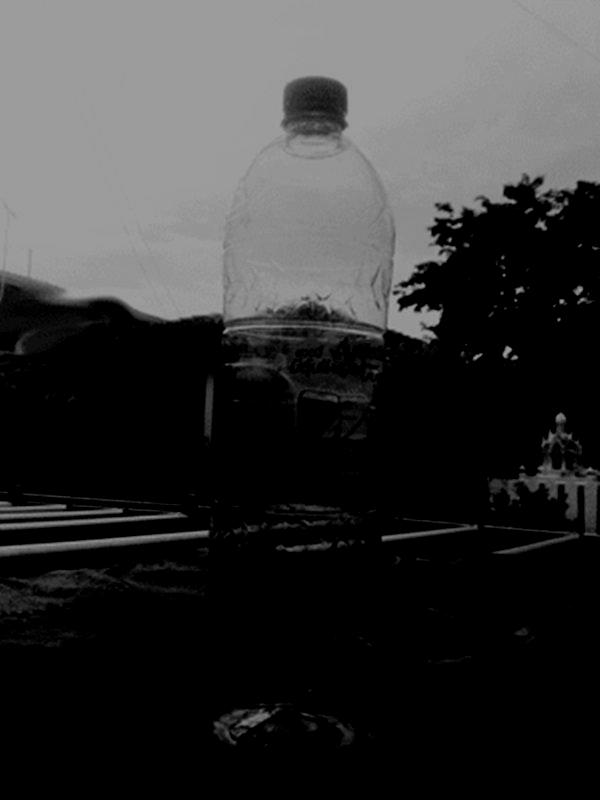bottle: (178, 68, 413, 768)
